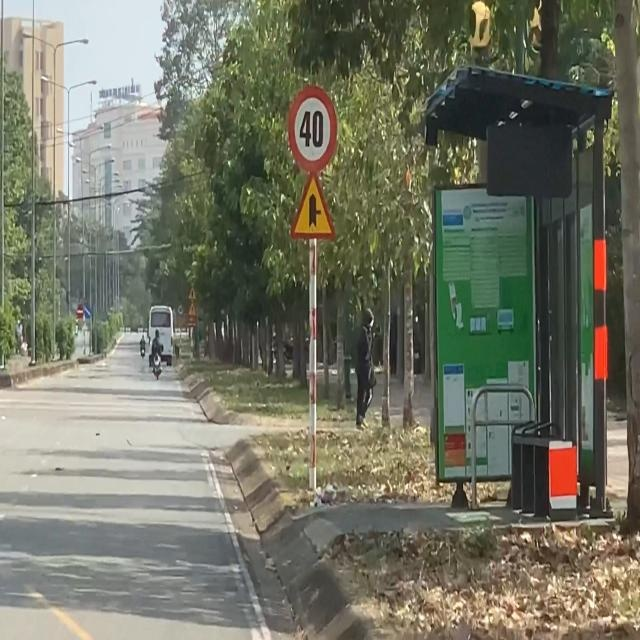bien_cam: (286, 75, 335, 167), (287, 167, 337, 244), (76, 306, 84, 318), (84, 306, 91, 319)
